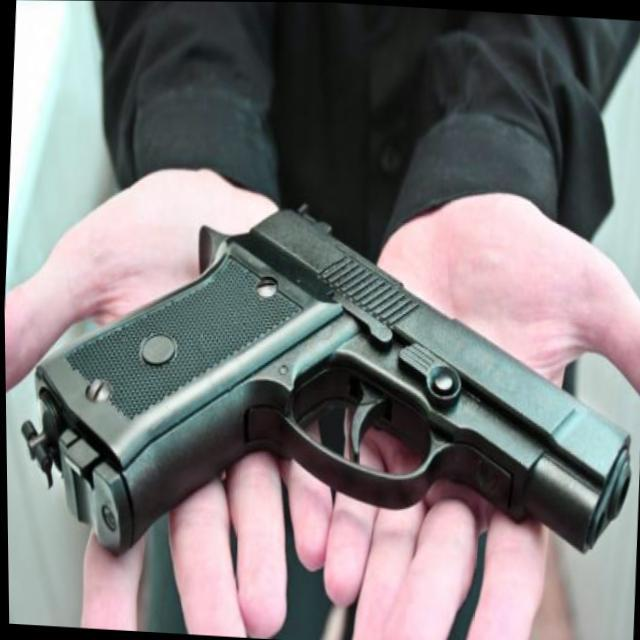weapon: (5, 181, 640, 596)
